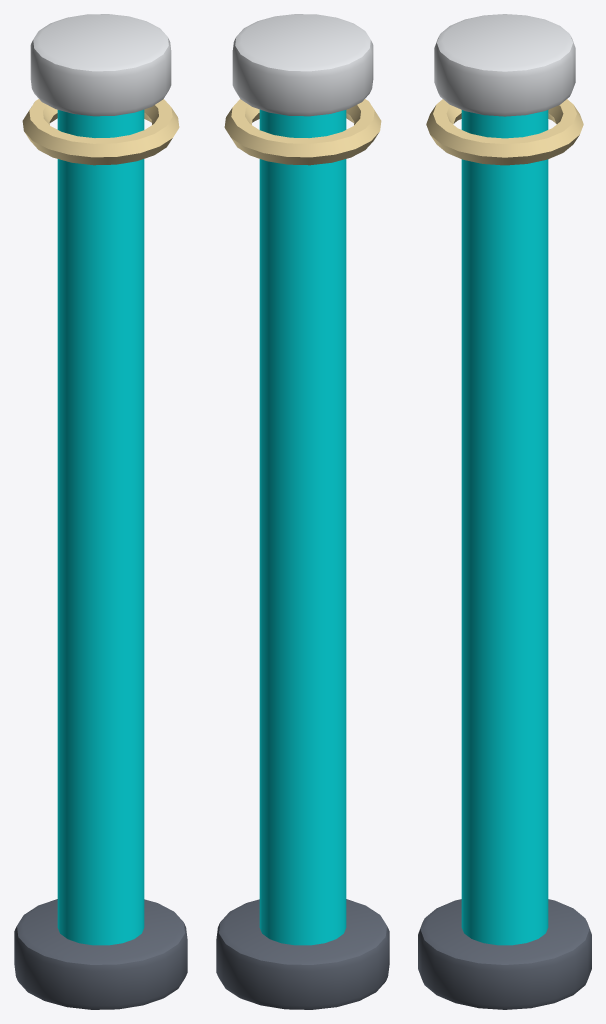
File: harmonic_pillar.glb
3 renders of one model, left to right at view 1: azimuth 30°, elevation 25°; view 2: azimuth 150°, elevation 25°; view 3: azimuth 270°, elevation 25°, orthographic.
Visible parts, largest first — view 1: Cylinder; view 2: Cylinder; view 3: Cylinder.
Part boxes in pixels (box(x1,y1,x2,y2)): Cylinder: box(14, 14, 187, 1009); Cylinder: box(216, 14, 389, 1009); Cylinder: box(418, 14, 591, 1009).
Bounding box in the file's own units: 0.32 × 1.9 × 0.32.
